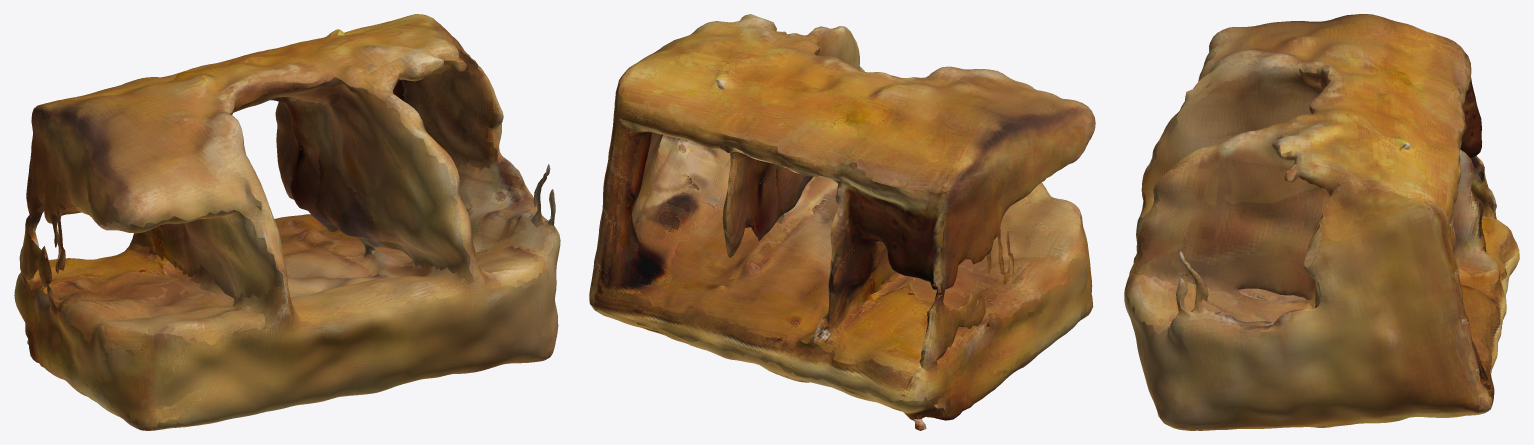
Rendered from 14_desk.glb.
3 views of the same model, side by side, from view 1: azimuth 30°, elevation 25°; view 2: azimuth 150°, elevation 25°; view 3: azimuth 270°, elevation 25° (orthographic). The views are drawn at different scales.
Parts seen in each view (by area): view 1: 14_desk.obj; view 2: 14_desk.obj; view 3: 14_desk.obj.
Boxes of the visible parts, x1,y1,x2,y2 form: 14_desk.obj: (14,14,560,430); 14_desk.obj: (589,14,1095,430); 14_desk.obj: (1124,14,1519,430).
Bounding box in the file's own units: 1.49 × 0.9691 × 1.22.
Materials: 1 (1 with a texture image).
